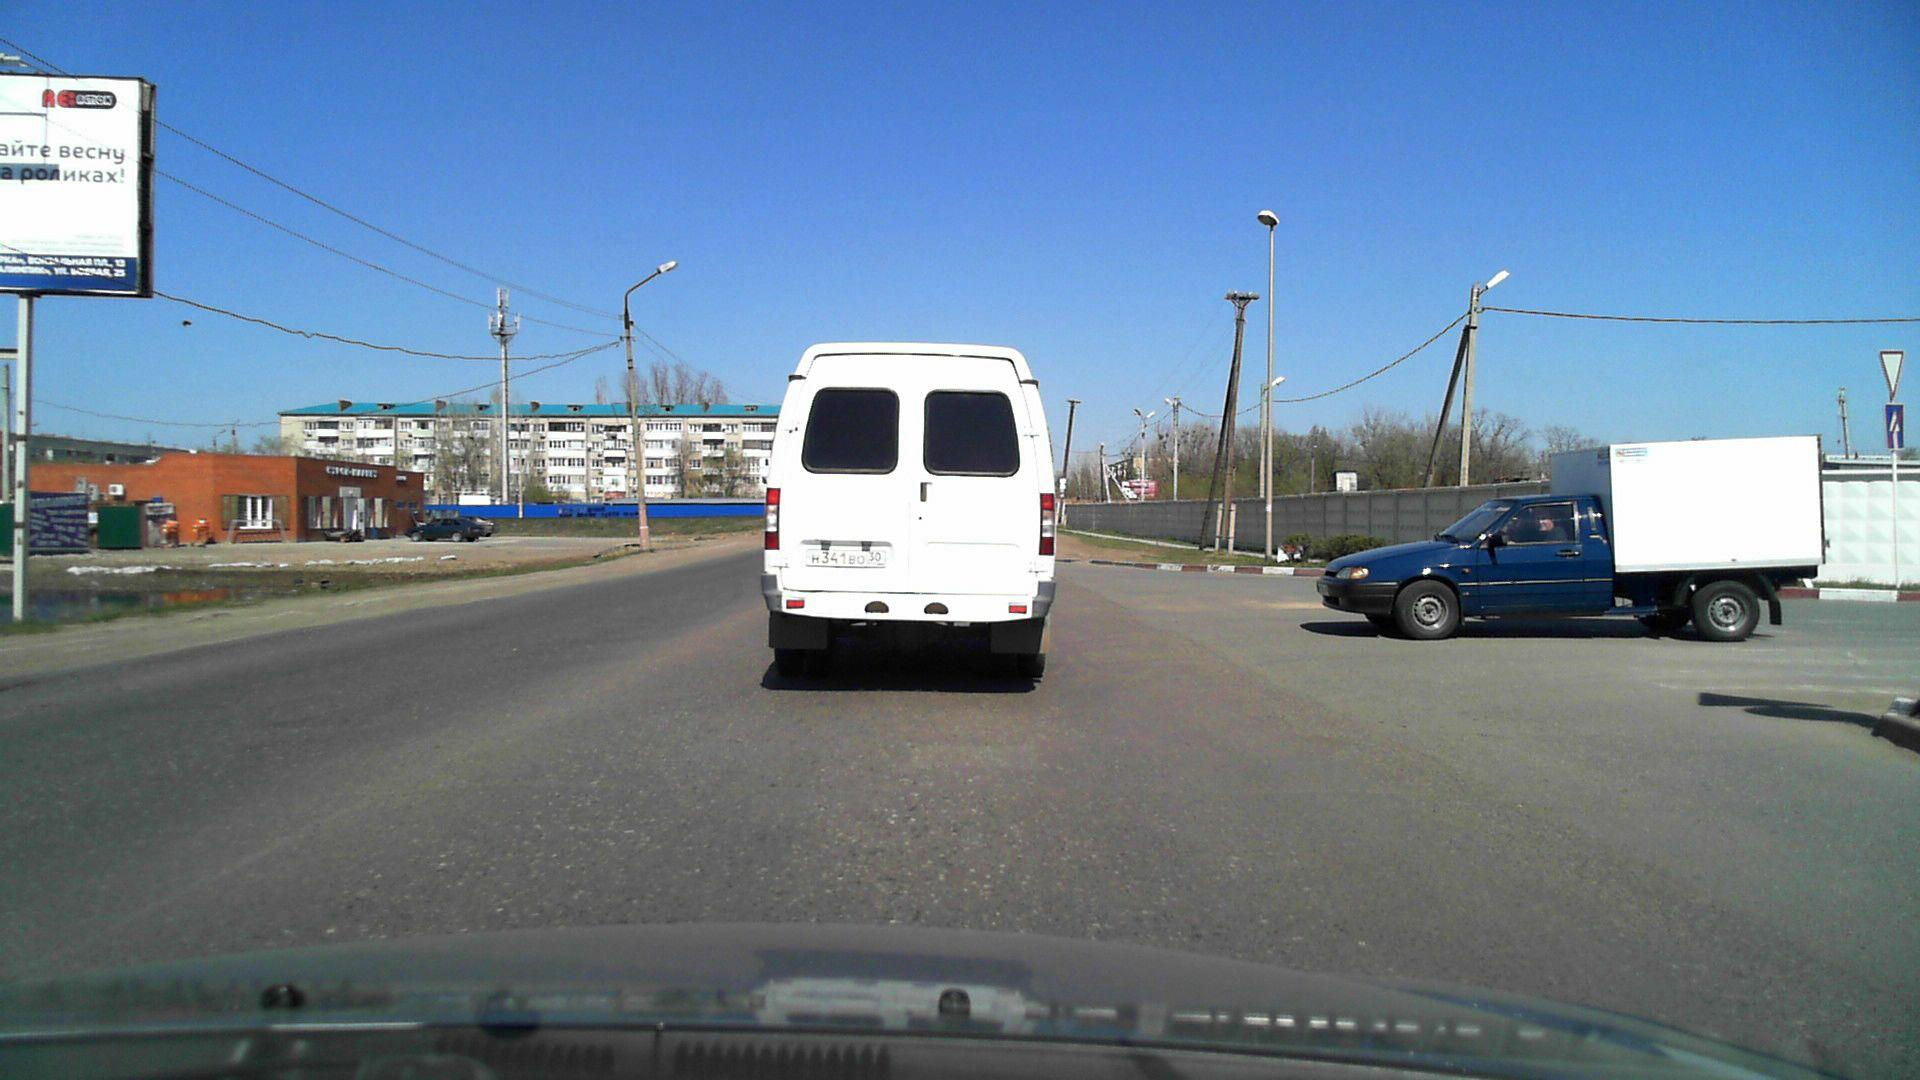2_4: (1871, 347, 1907, 397)
5_6: (1876, 405, 1909, 446)
